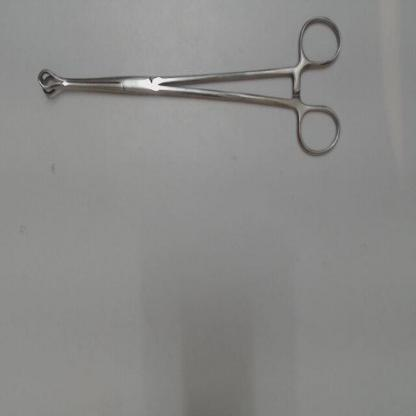8 Babcock Tissue Forceps: (32, 10, 344, 164)
